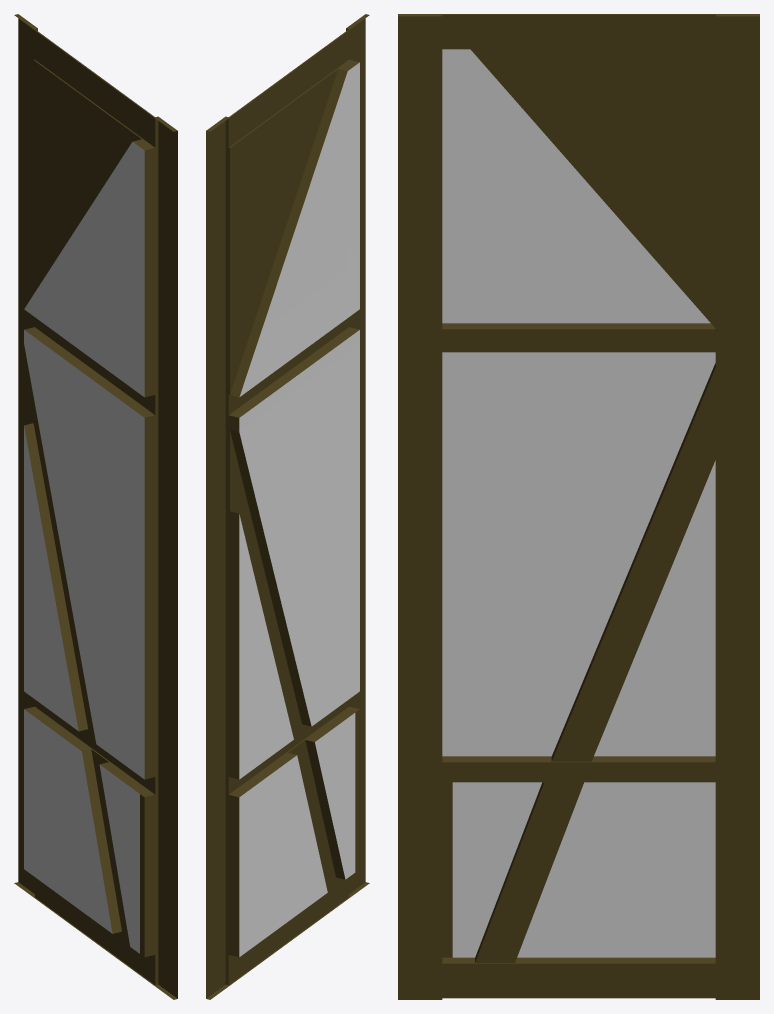
File: GB_Wall_2Stripe_1M_V4.fbx
3 views of the same model, side by side, from view 1: azimuth 30°, elevation 25°; view 2: azimuth 150°, elevation 25°; view 3: azimuth 270°, elevation 25° (orthographic). The views are drawn at different scales.
Visible parts, largest first — view 1: HalfWall_Plaster15; view 2: HalfWall_Plaster15; view 3: HalfWall_Plaster15.
Part boxes in pixels (x1,y1,x2,y2): HalfWall_Plaster15: [14, 14, 177, 999]; HalfWall_Plaster15: [206, 14, 369, 999]; HalfWall_Plaster15: [398, 14, 759, 999].
Bounding box in the file's own units: 0.05 × 3 × 1.
